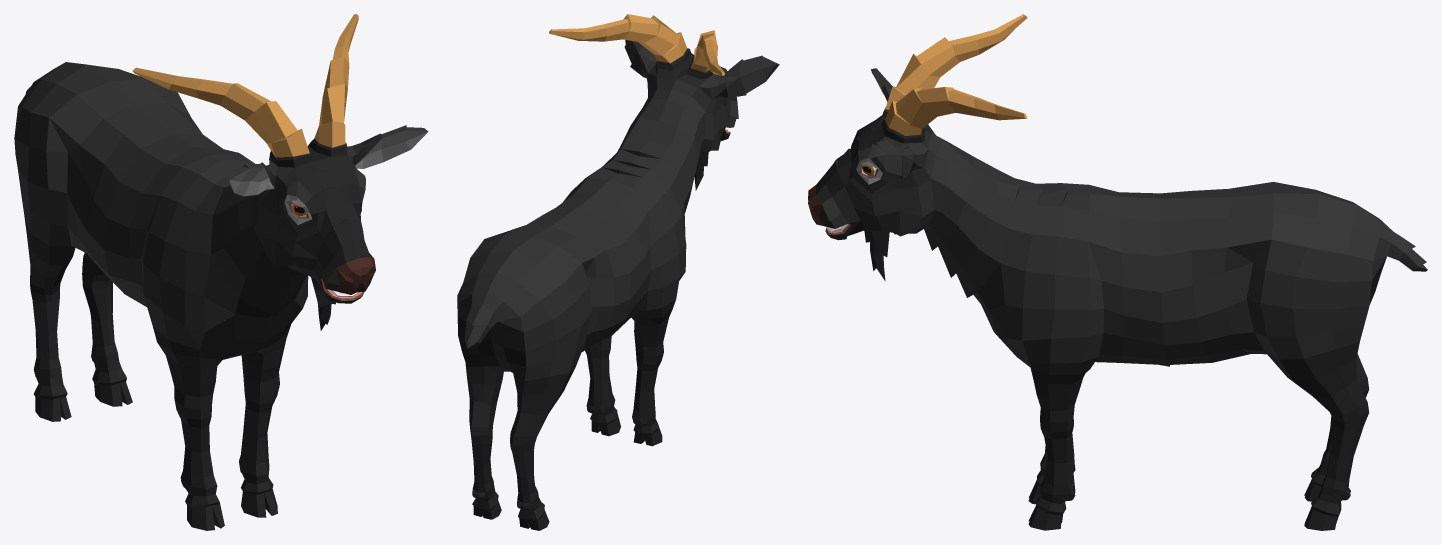
File: LowPoly_Goat_Male_5.obj
3 views of the same model, side by side, from view 1: azimuth 30°, elevation 25°; view 2: azimuth 150°, elevation 25°; view 3: azimuth 270°, elevation 25° (orthographic). The views are drawn at different scales.
Visible parts, largest first — view 1: Goat_Male_5_Cube.014; view 2: Goat_Male_5_Cube.014; view 3: Goat_Male_5_Cube.014.
Part boxes in pixels (x1=…): Goat_Male_5_Cube.014: x1=14, y1=14, x2=428, y2=530; Goat_Male_5_Cube.014: x1=457, y1=14, x2=779, y2=530; Goat_Male_5_Cube.014: x1=808, y1=14, x2=1427, y2=530.
Size of the model in its own units: 0.4623 by 0.9494 by 1.19.
